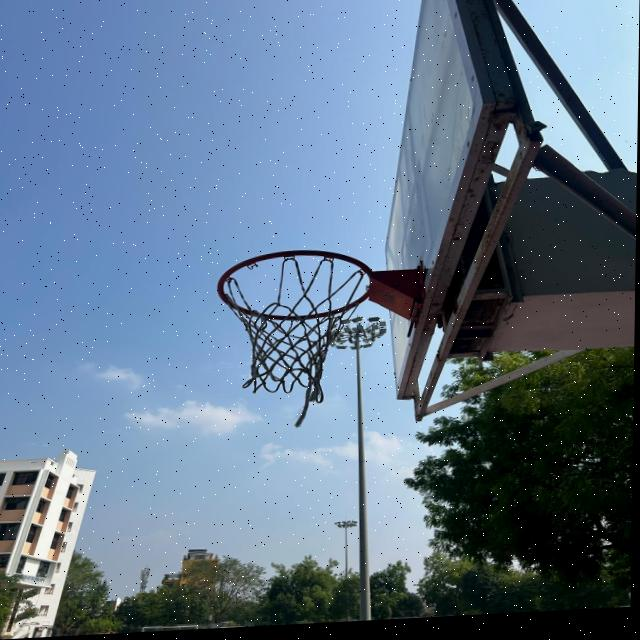hoop: (197, 255, 428, 418)
